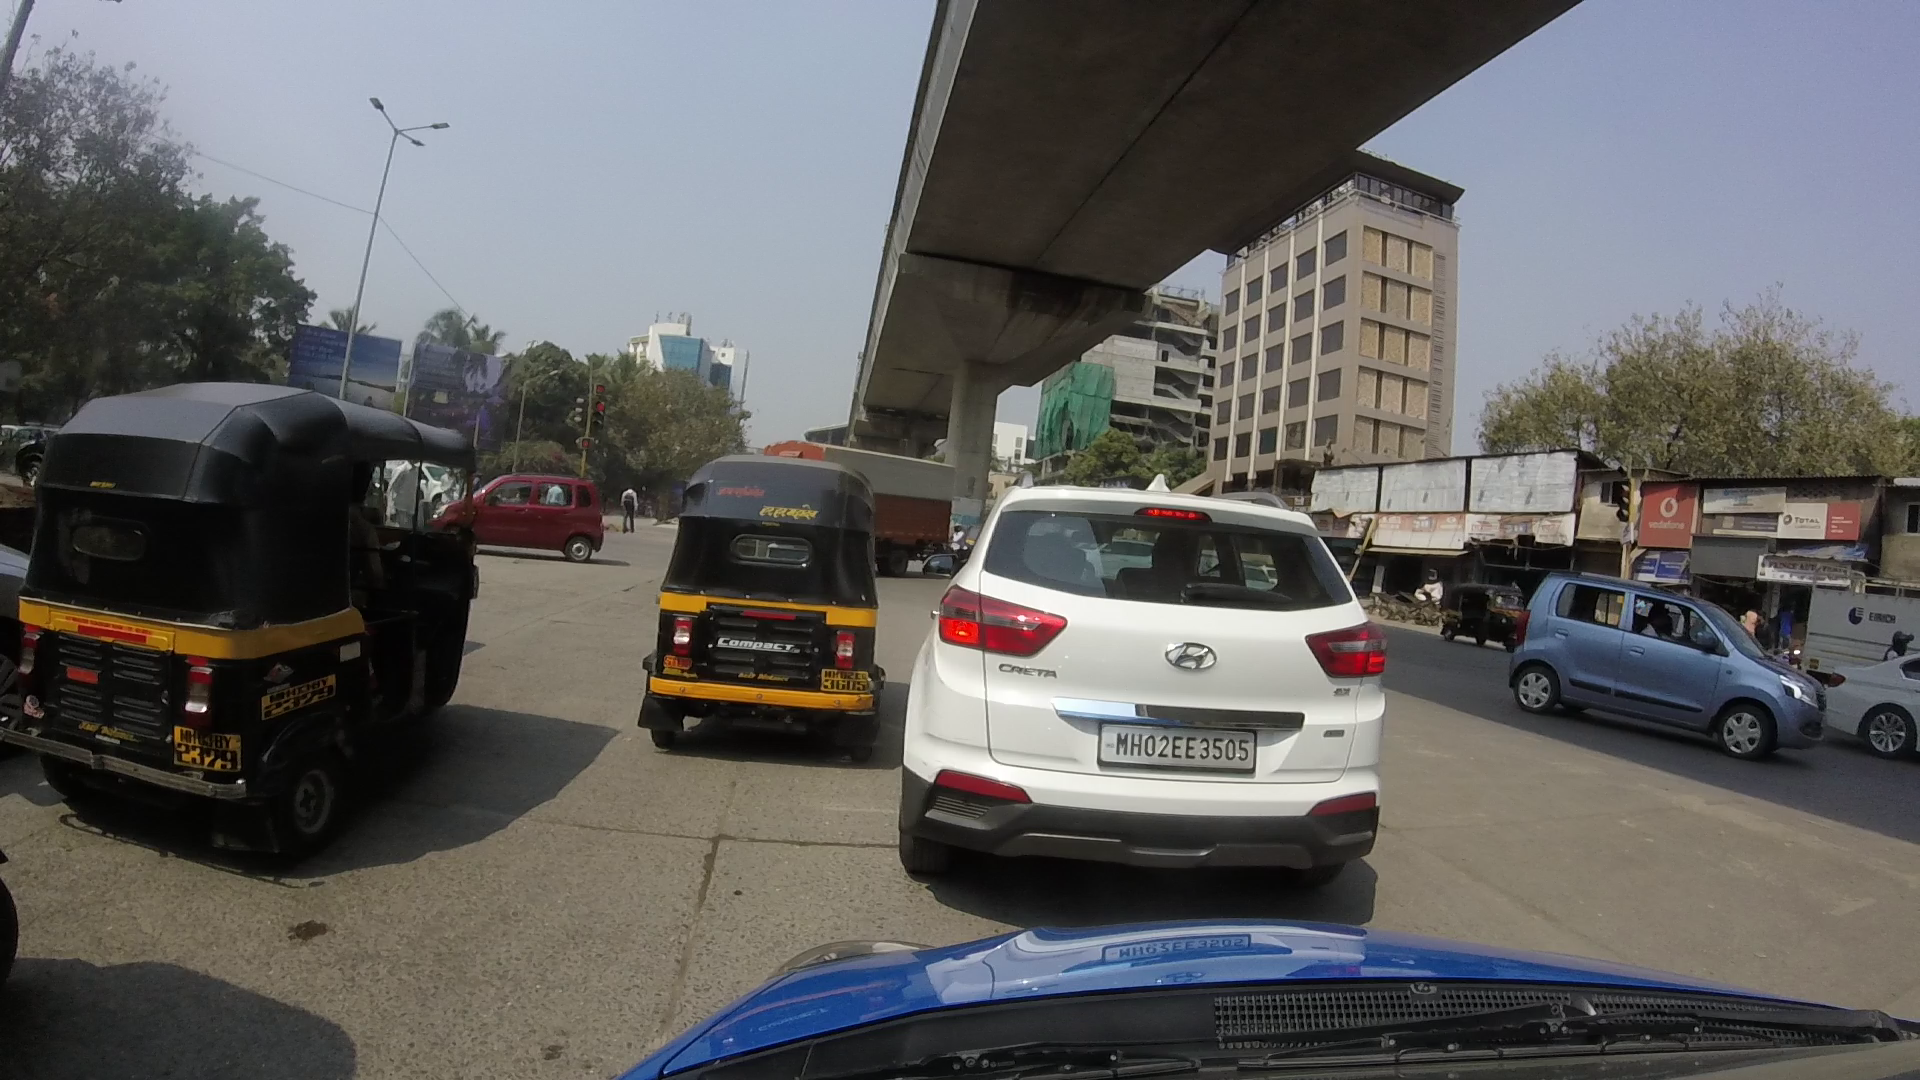car: (907, 481, 1427, 898), (1505, 537, 1811, 787), (448, 431, 612, 563)
rickshaw: (18, 367, 492, 845), (636, 434, 901, 771)
